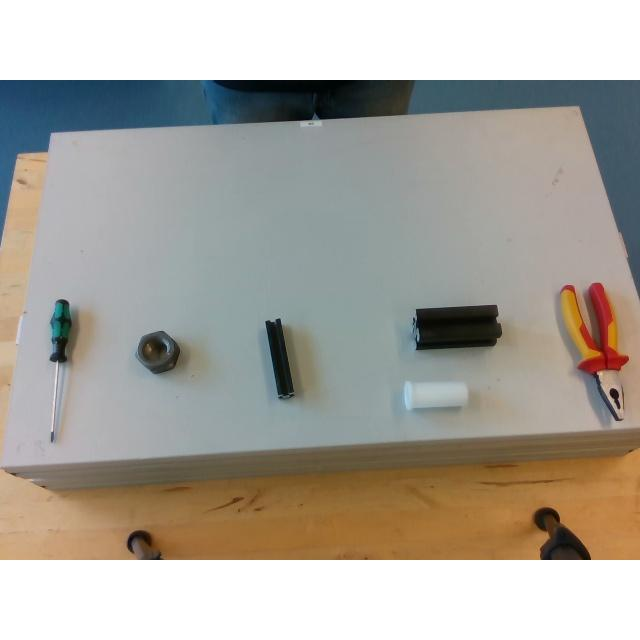F20_20_B: (266, 322, 294, 398)
M30: (137, 332, 179, 372)
S40_40_B: (414, 305, 502, 349)
Screwdriver: (49, 301, 71, 441)
Spacer: (406, 380, 466, 408)
